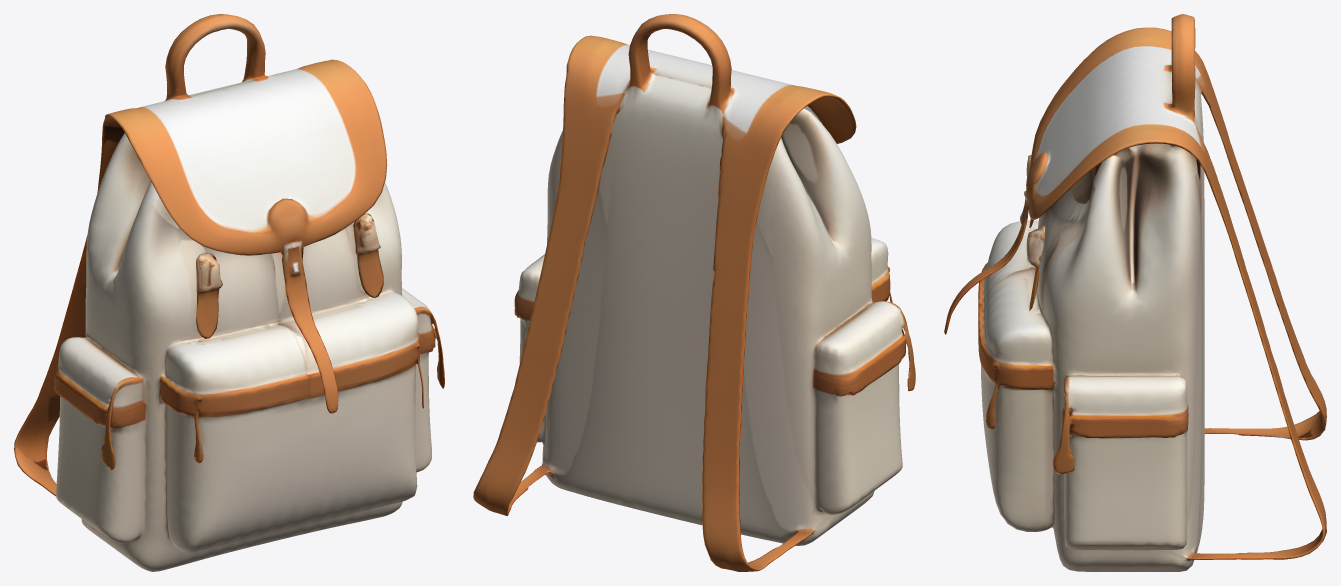
The model's file is base_tri.obj.
3 views of the same model, side by side, from view 1: azimuth 30°, elevation 25°; view 2: azimuth 150°, elevation 25°; view 3: azimuth 270°, elevation 25° (orthographic). The views are drawn at different scales.
Size of the model in its own units: 1.37 by 1.9 by 1.33.
1 material, 1 textured.
